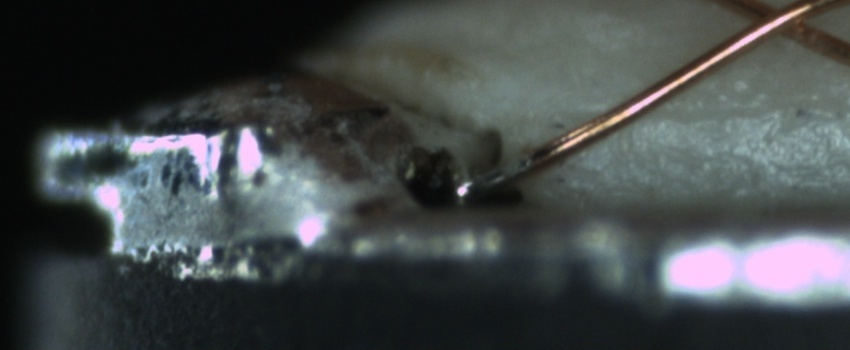CL: (732, 0, 826, 48)
DL: (608, 77, 850, 145)
TS: (445, 154, 529, 199)
TTCW: (450, 146, 544, 199)
